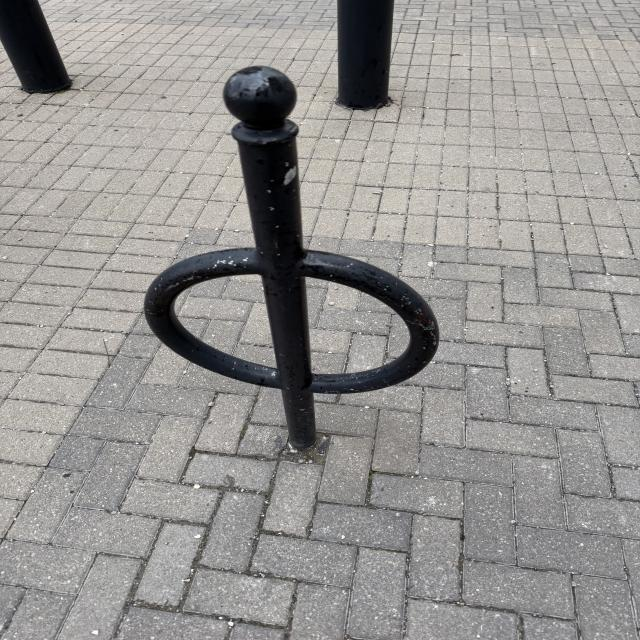Bicycle Rack: (140, 66, 442, 452)
